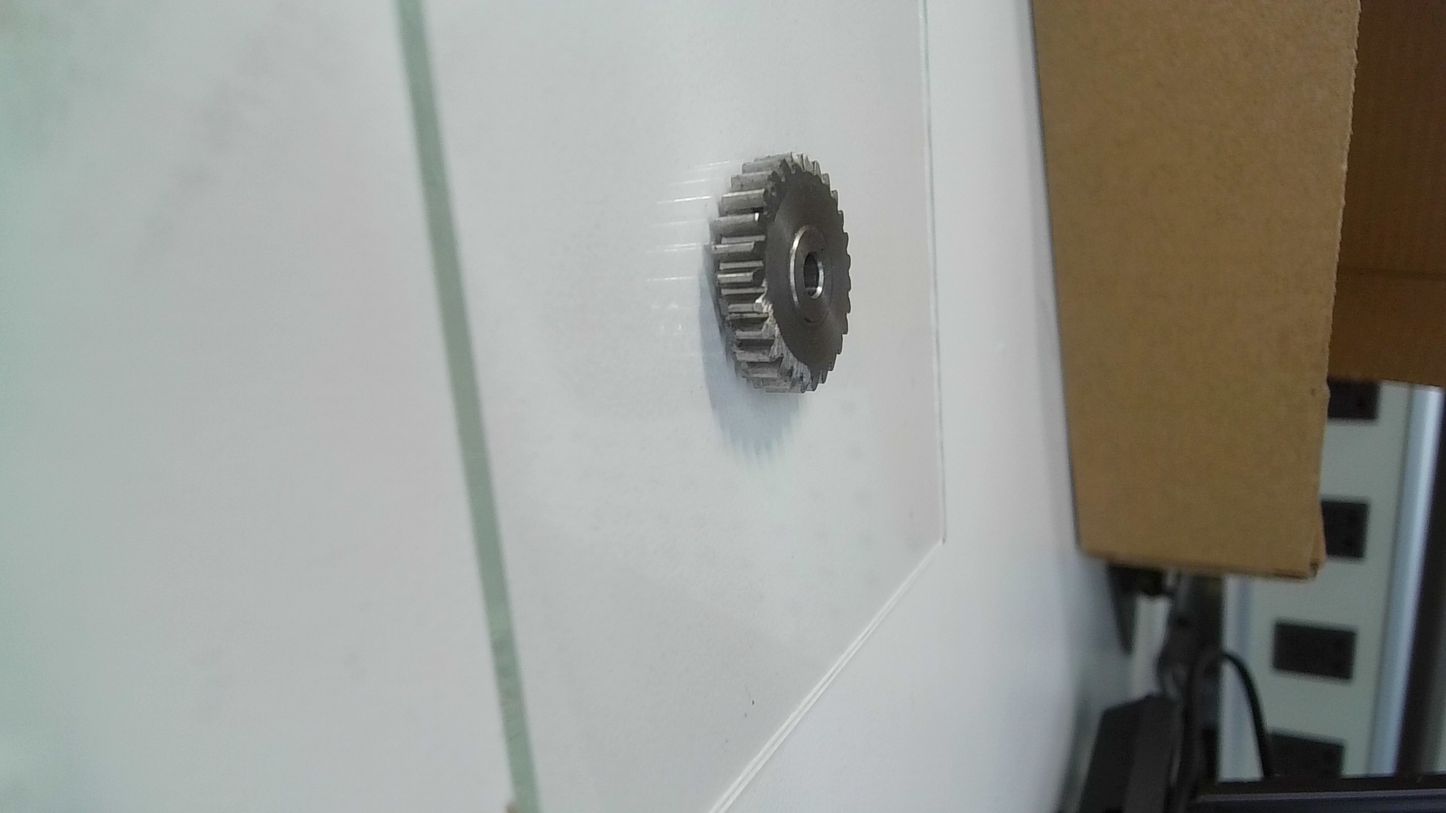gear: (710, 148, 856, 396)
